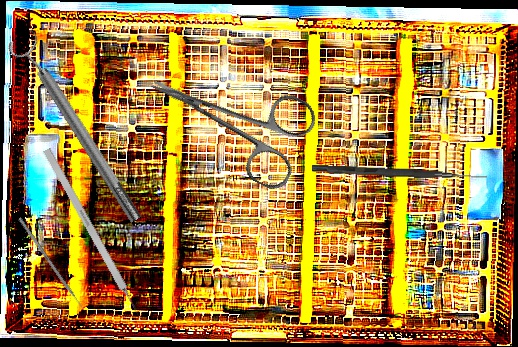Fixation Ring: (5, 27, 150, 230)
Hook Surgical: (42, 147, 146, 324), (311, 164, 488, 181)
Iris Scissors: (132, 37, 323, 195)
Pusher: (17, 217, 90, 317)
